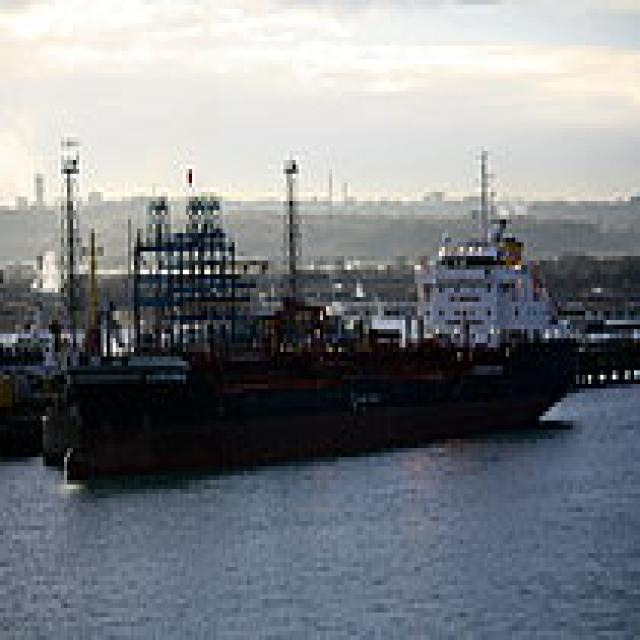Tanker: (34, 210, 579, 476)
